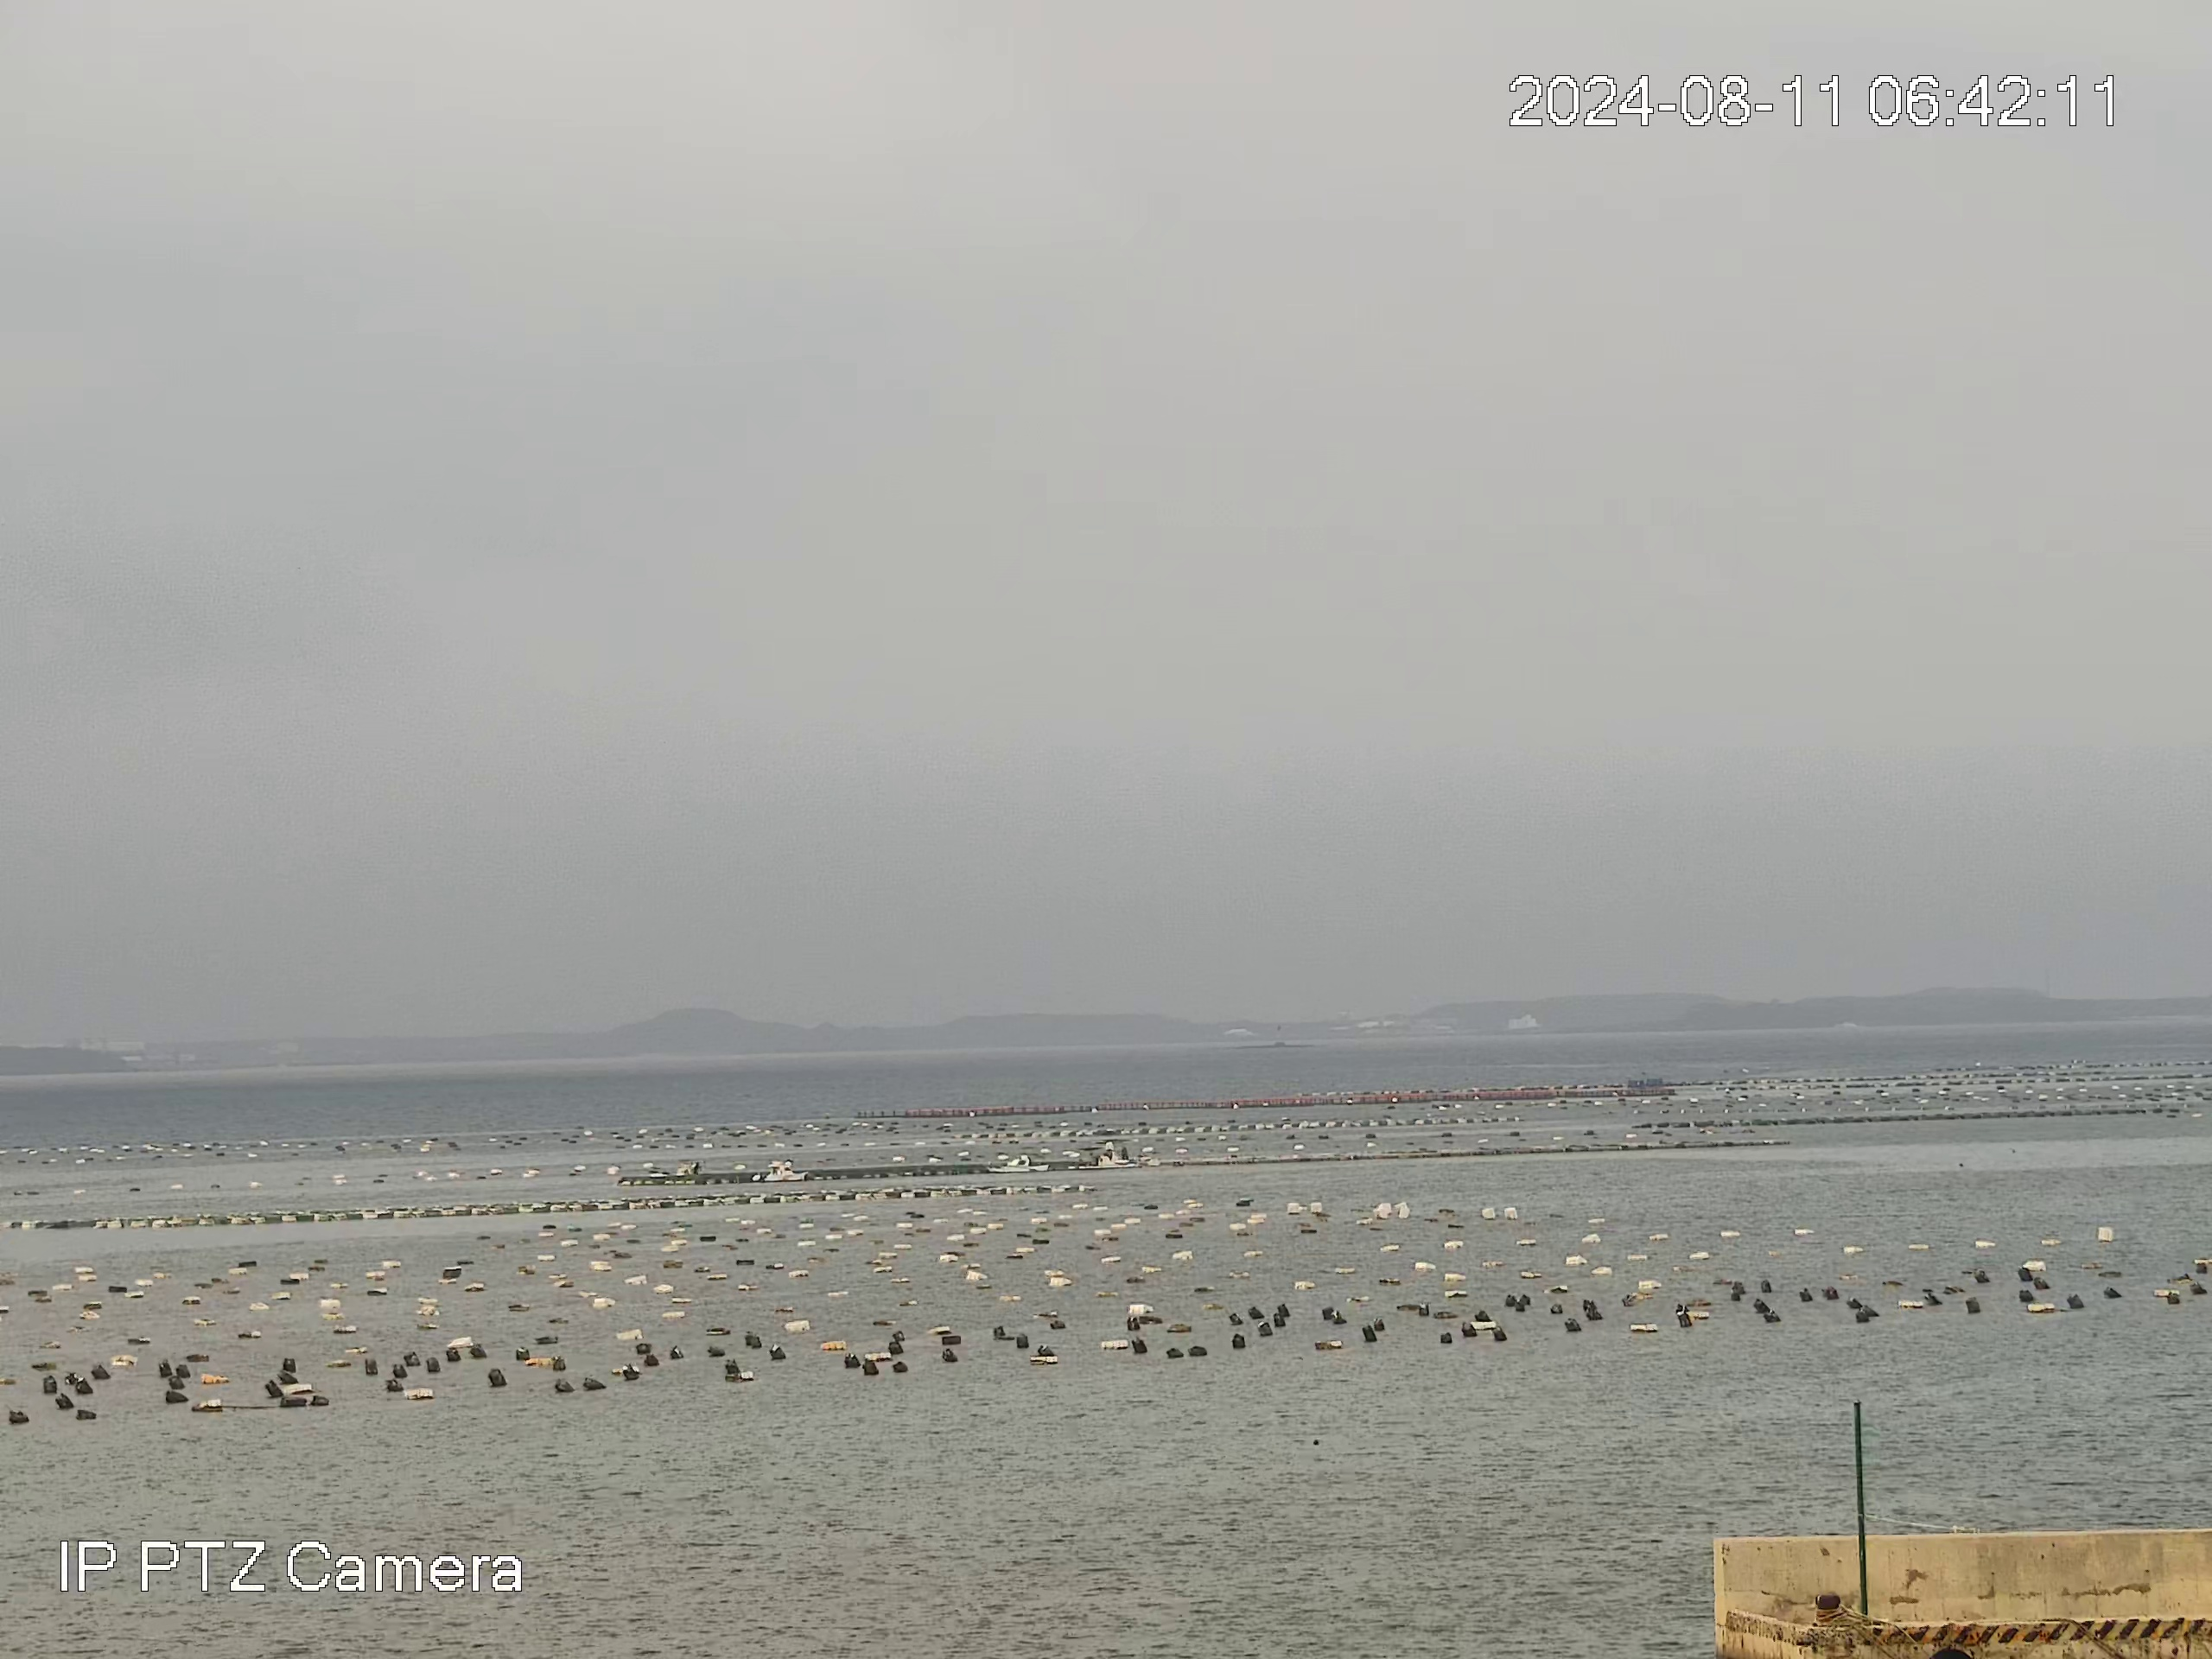boat: (749, 1157, 810, 1183), (984, 1152, 1050, 1175), (1066, 1150, 1120, 1169)
